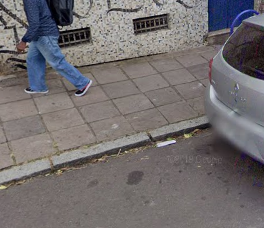vag2: (1, 87, 201, 203)
